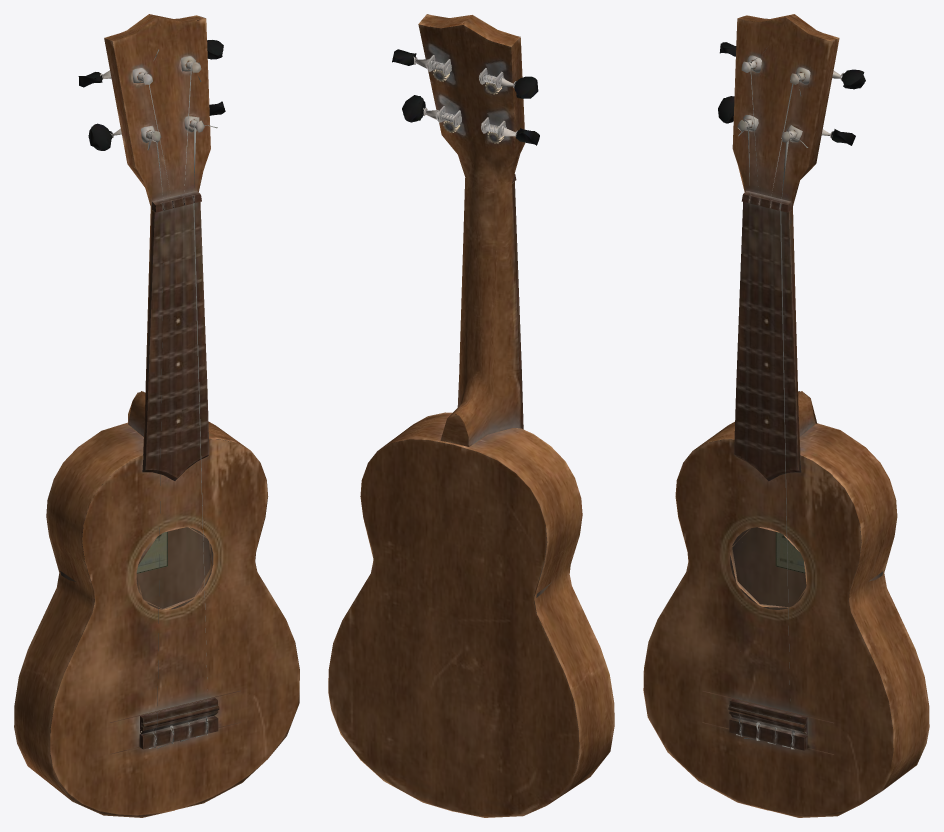
The model's file is ukulele.glb.
The picture shows the model from 3 angles, left to right: view 1: azimuth 30°, elevation 25°; view 2: azimuth 150°, elevation 25°; view 3: azimuth 330°, elevation 25°; orthographic projection.
Parts seen in each view (by area): view 1: Ukulele_01; view 2: Ukulele_01; view 3: Ukulele_01.
Part boxes in pixels (<box>): Ukulele_01: <box>14,14,299,817</box>; Ukulele_01: <box>328,14,614,817</box>; Ukulele_01: <box>643,14,929,817</box>.
Bounding box in the file's own units: 0.1765 × 0.5267 × 0.0508.
Materials: 1 (1 with a texture image).
